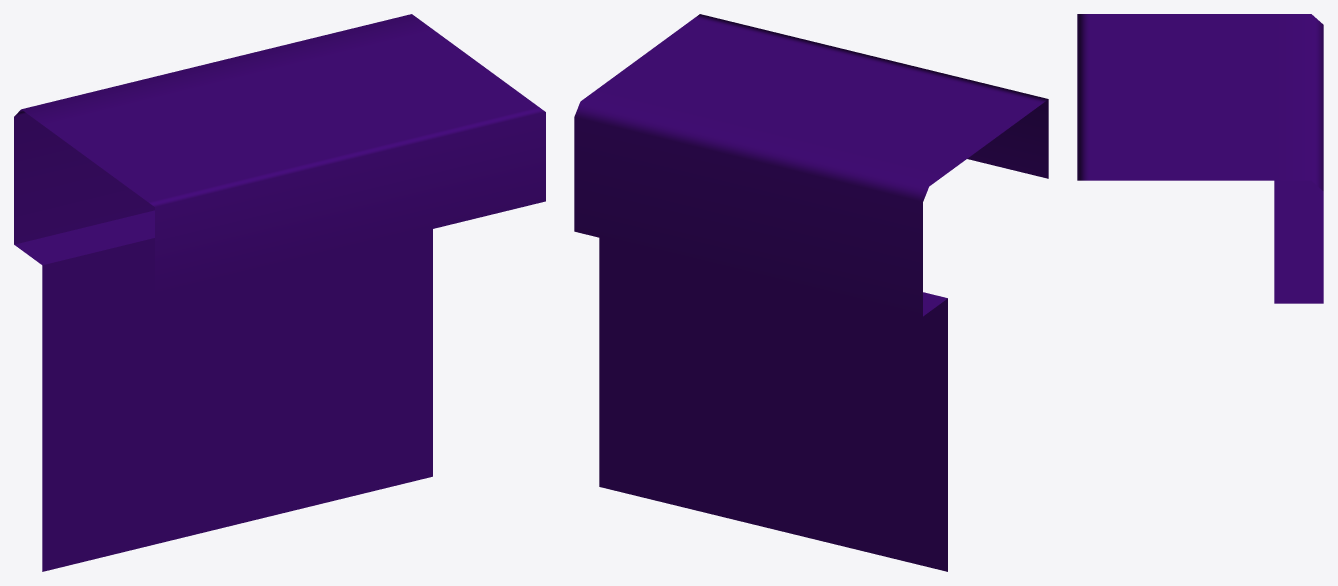
File: border_cushion_straight_b.fbx
The picture shows the model from 3 angles, left to right: view 1: azimuth 30°, elevation 25°; view 2: azimuth 150°, elevation 25°; view 3: azimuth 270°, elevation 25°; orthographic projection. The views are drawn at different scales.
Parts seen in each view (by area): view 1: lod0; view 2: lod0; view 3: lod0.
Boxes of the visible parts, box(x1,y1,x2,y2) form: lod0: box(14, 14, 545, 571); lod0: box(574, 14, 1048, 571); lod0: box(1077, 14, 1323, 303).
Bounding box in the file's own units: 8 × 8.75 × 5.
